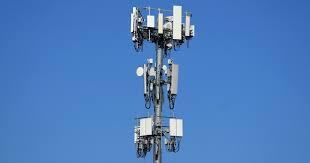Microwave Antenna: (136, 67, 145, 78)
antenna: (171, 5, 182, 40), (169, 64, 181, 93), (137, 117, 146, 139), (158, 14, 165, 35), (177, 117, 184, 137), (146, 13, 155, 28), (146, 116, 152, 137), (170, 117, 176, 137)
